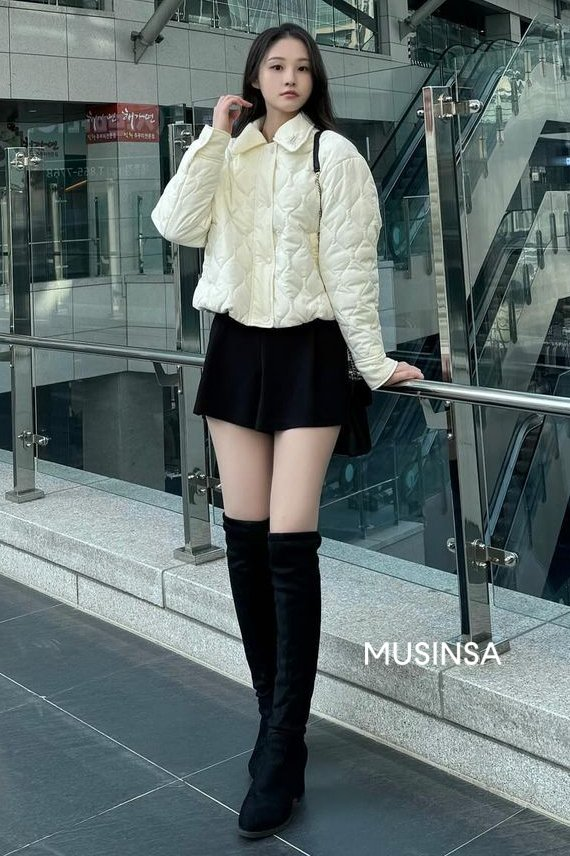Boots: (214, 508, 325, 846)
Bubble jacket: (147, 111, 397, 383)
Skirt: (183, 309, 358, 432)
